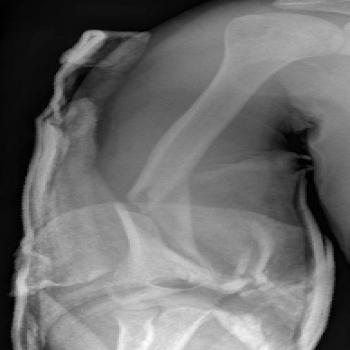Fracture: (110, 176, 203, 222)
